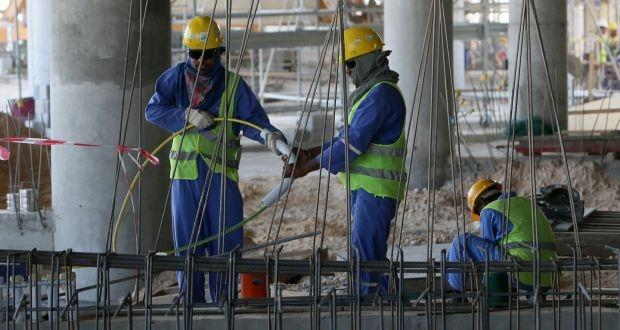helmet: (183, 11, 222, 51), (339, 27, 383, 60)
person: (160, 11, 251, 258), (335, 25, 407, 257), (449, 173, 561, 304)
vest: (168, 74, 239, 183), (347, 84, 408, 205), (489, 197, 562, 288)
